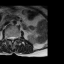CCS_normal: (11, 34, 13, 43)
LFS_stenosis: (15, 33, 17, 40)
LLS_normal: (13, 34, 15, 41)
RFS_normal: (7, 34, 9, 41)
RLS_normal: (9, 34, 11, 41)
